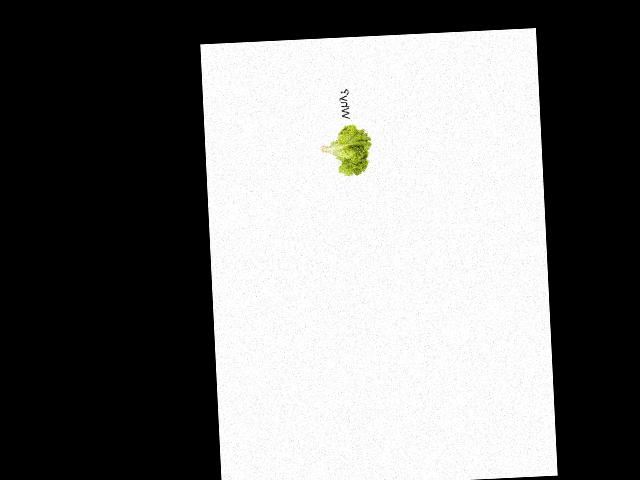lettuce: (319, 119, 373, 179)
